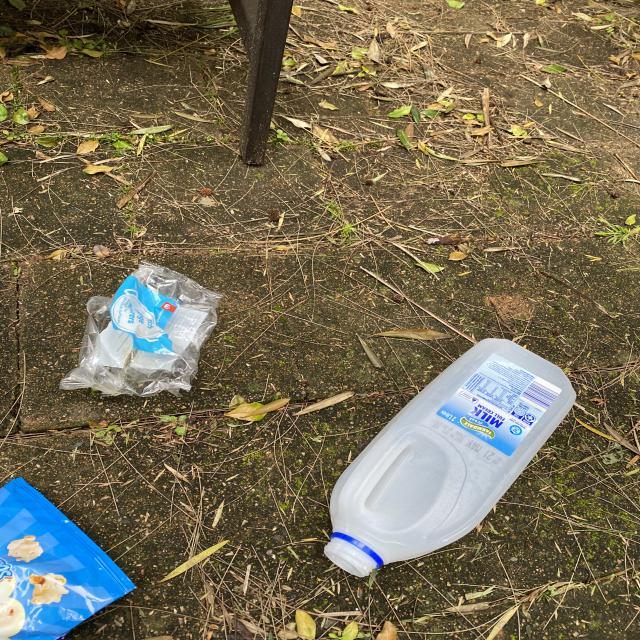bag: (0, 476, 137, 640)
bottle: (324, 338, 577, 577)
wrappers: (59, 260, 223, 398)
